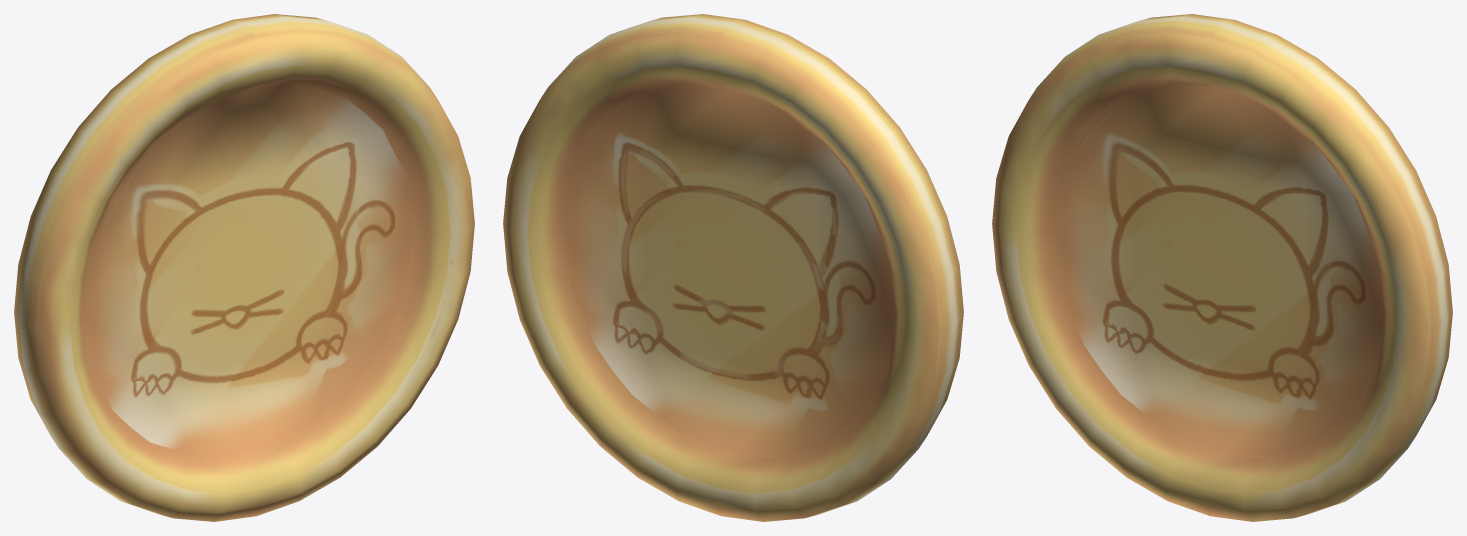
File: CatCoin.fbx
3 renders of one model, left to right at view 1: azimuth 30°, elevation 25°; view 2: azimuth 150°, elevation 25°; view 3: azimuth 330°, elevation 25°, orthographic.
Visible parts, largest first — view 1: Cylinder; view 2: Cylinder; view 3: Cylinder.
Part boxes in pixels (x1,y1,x2,y2): Cylinder: (14,14,474,521); Cylinder: (503,14,963,521); Cylinder: (992,14,1452,521).
Bounding box in the file's own units: 424 × 445 × 57.31.
1 material, 1 textured.
